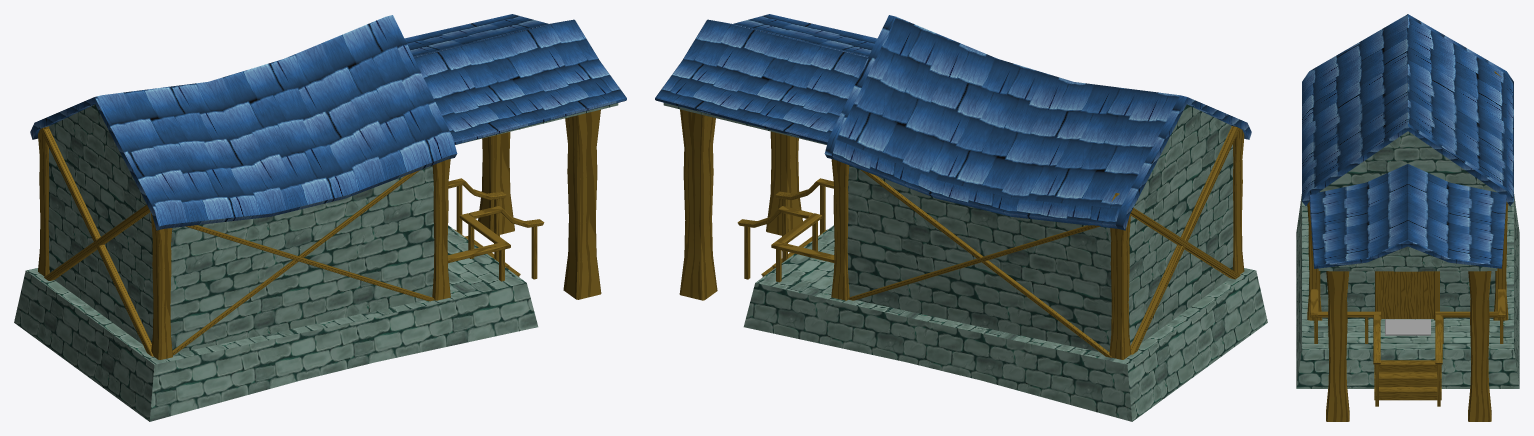
Rendered from House_Textured.fbx.
The picture shows the model from 3 angles, left to right: view 1: azimuth 30°, elevation 25°; view 2: azimuth 150°, elevation 25°; view 3: azimuth 270°, elevation 25°; orthographic projection. The views are drawn at different scales.
Visible parts, largest first — view 1: polySurface34, polySurface32, polySurface11, polySurface9, polySurface12, polySurface24, polySurface37, polySurface31, polySurface30, polySurface16, polySurface17, polySurface15; view 2: polySurface34, polySurface32, polySurface12, polySurface16, polySurface11, polySurface17, polySurface36, polySurface27, polySurface9, polySurface26, polySurface24, polySurface14; view 3: polySurface34, polySurface32, polySurface11, polySurface12, polySurface35, polySurface25, polySurface37, polySurface36, polySurface19, polySurface14, polySurface15, polySurface13 (+1 smaller).
Part boxes in pixels (left/top/right/bottom): polySurface34: left=14, top=15, right=538, bottom=421; polySurface32: left=404, top=14, right=626, bottom=144; polySurface11: left=563, top=109, right=601, bottom=299; polySurface9: left=151, top=213, right=172, bottom=359; polySurface12: left=478, top=132, right=514, bottom=234; polySurface24: left=40, top=127, right=153, bottom=356; polySurface37: left=432, top=159, right=450, bottom=300; polySurface31: left=172, top=170, right=419, bottom=355; polySurface30: left=185, top=225, right=434, bottom=301; polySurface16: left=38, top=126, right=49, bottom=276; polySurface17: left=44, top=204, right=150, bottom=280; polySurface15: left=448, top=213, right=510, bottom=263; polySurface34: left=743, top=15, right=1267, bottom=421; polySurface32: left=655, top=14, right=877, bottom=144; polySurface12: left=679, top=109, right=717, bottom=300; polySurface16: left=1109, top=193, right=1131, bottom=359; polySurface11: left=766, top=131, right=802, bottom=235; polySurface17: left=1130, top=126, right=1239, bottom=354; polySurface36: left=831, top=159, right=849, bottom=300; polySurface27: left=860, top=169, right=1111, bottom=357; polySurface9: left=1232, top=128, right=1244, bottom=274; polySurface26: left=848, top=225, right=1100, bottom=300; polySurface24: left=1130, top=207, right=1240, bottom=279; polySurface14: left=771, top=213, right=834, bottom=262; polySurface34: left=1296, top=14, right=1519, bottom=388; polySurface32: left=1309, top=164, right=1506, bottom=271; polySurface11: left=1326, top=271, right=1349, bottom=421; polySurface12: left=1468, top=271, right=1491, bottom=421; polySurface35: left=1374, top=360, right=1441, bottom=400; polySurface25: left=1385, top=319, right=1430, bottom=335; polySurface37: left=1307, top=201, right=1322, bottom=320; polySurface36: left=1493, top=201, right=1508, bottom=320; polySurface19: left=1375, top=271, right=1439, bottom=320; polySurface14: left=1434, top=289, right=1505, bottom=317; polySurface15: left=1310, top=289, right=1380, bottom=317; polySurface13: left=1435, top=315, right=1442, bottom=364.
Size of the model in its own units: 1831 by 998 by 872.
